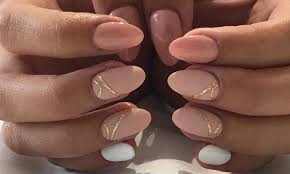nail: (91, 65, 146, 99), (109, 5, 142, 61), (150, 9, 182, 64), (166, 69, 220, 99), (99, 109, 152, 139), (171, 106, 222, 137), (168, 34, 218, 63), (92, 21, 142, 47), (198, 143, 231, 164), (101, 141, 136, 160)
